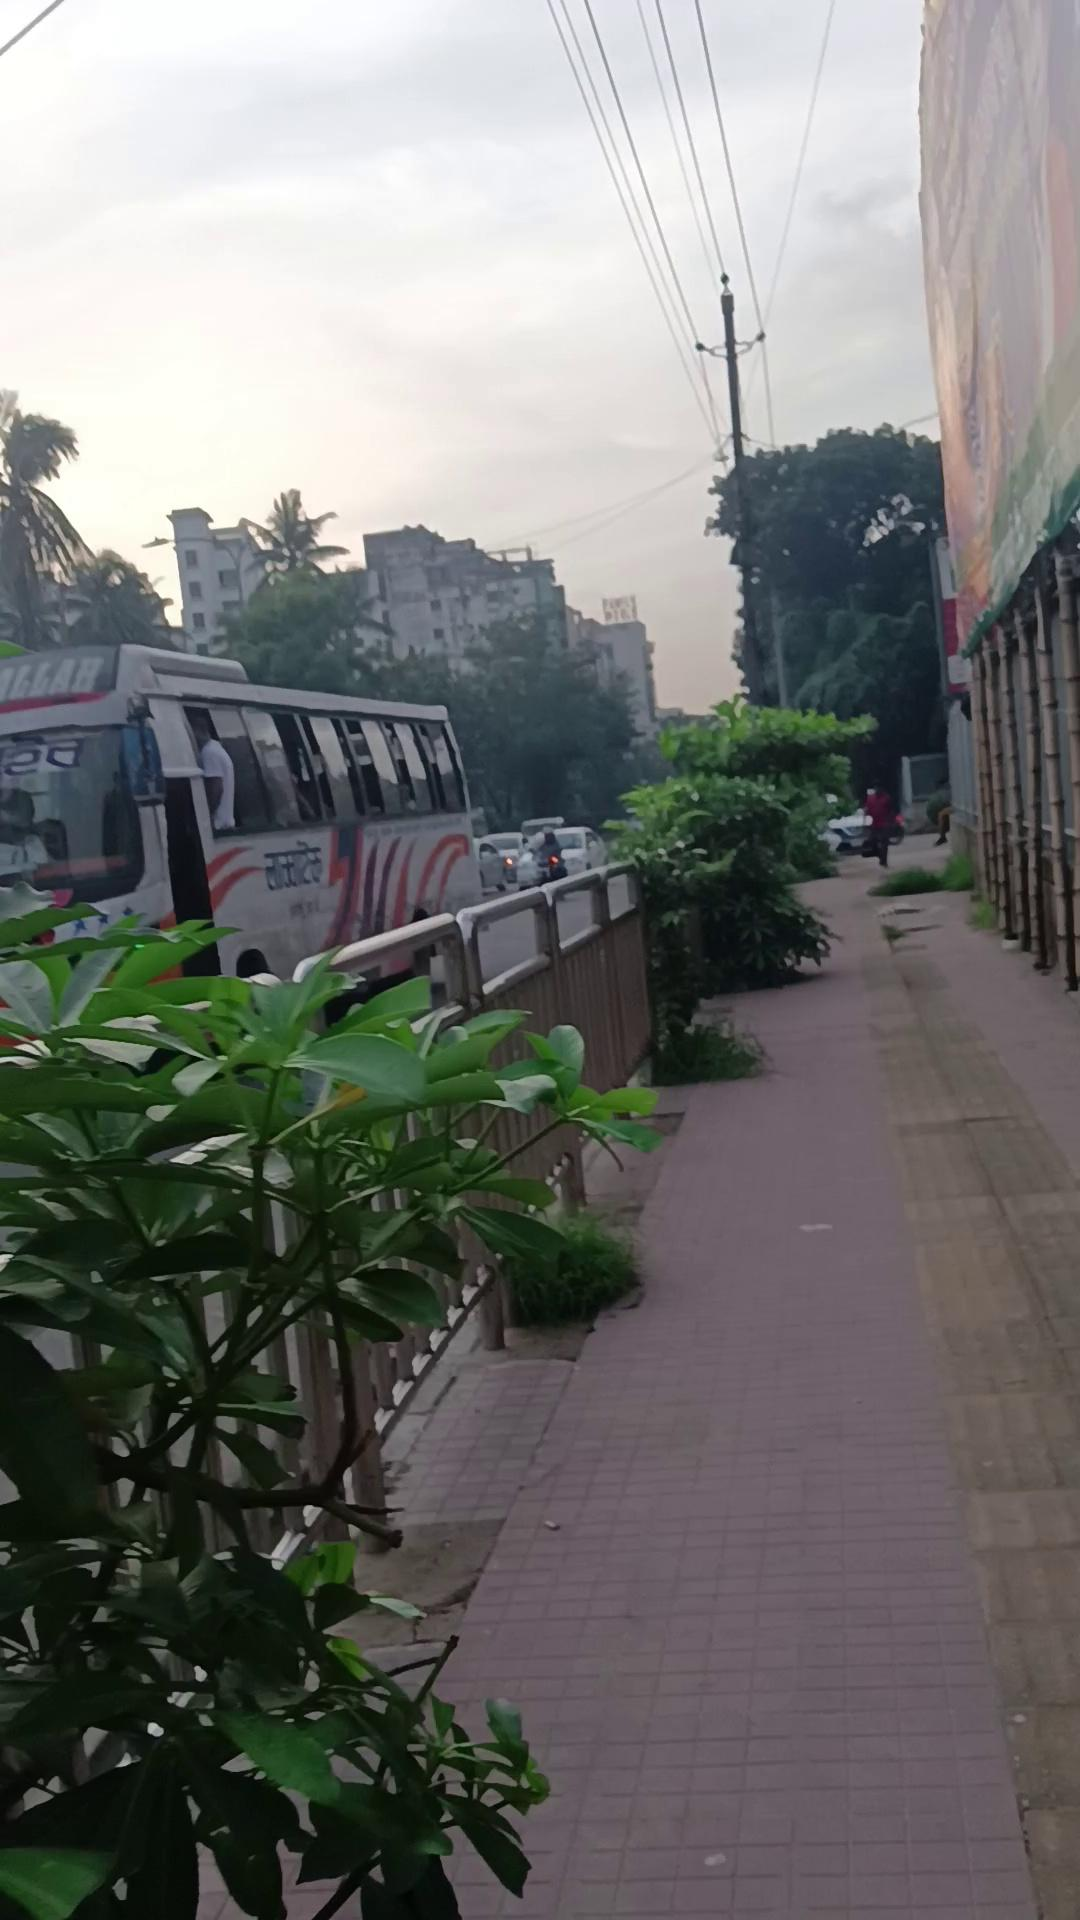Muddy road: (193, 716, 236, 833), (862, 778, 893, 866), (924, 775, 949, 847)
Potted-plant: (405, 829, 1064, 1916)
Traffic-sign: (1, 640, 488, 1040)
